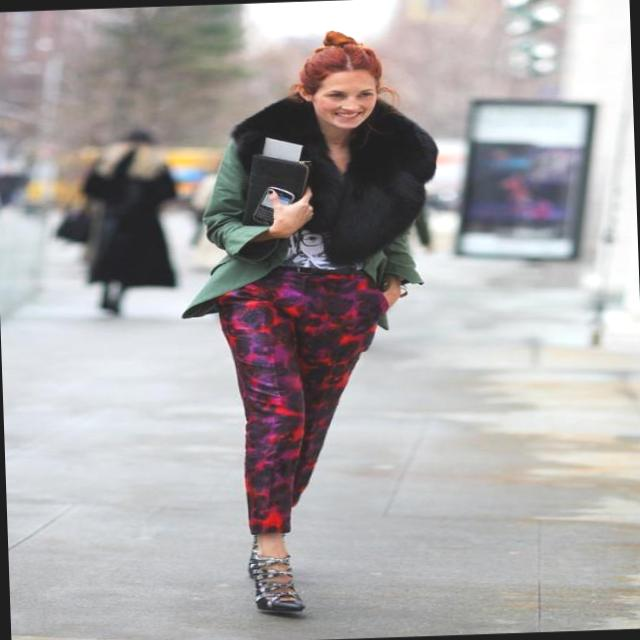pants: (214, 258, 388, 535)
sweater: (172, 87, 446, 340)
